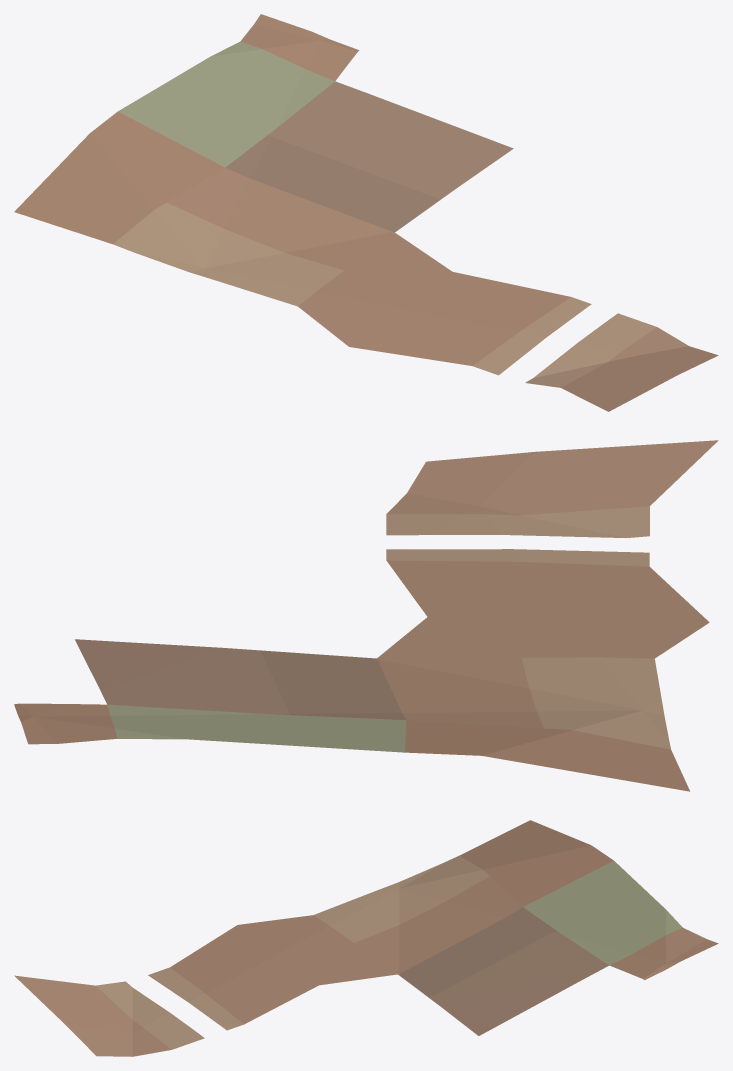
File: farm_-1_21_soil.glb
3 renders of one model, top to bottom at view 1: azimuth 30°, elevation 25°; view 2: azimuth 150°, elevation 25°; view 3: azimuth 270°, elevation 25°, orthographic. The views are drawn at different scales.
Visible parts, largest first — view 1: geometry_0; view 2: geometry_0; view 3: geometry_0.
Boxes of the visible parts, x1,y1,x2,y2 form: geometry_0: [14, 14, 718, 411]; geometry_0: [14, 440, 718, 791]; geometry_0: [14, 820, 718, 1056].
Size of the model in its own units: 137 by 26.84 by 212.
